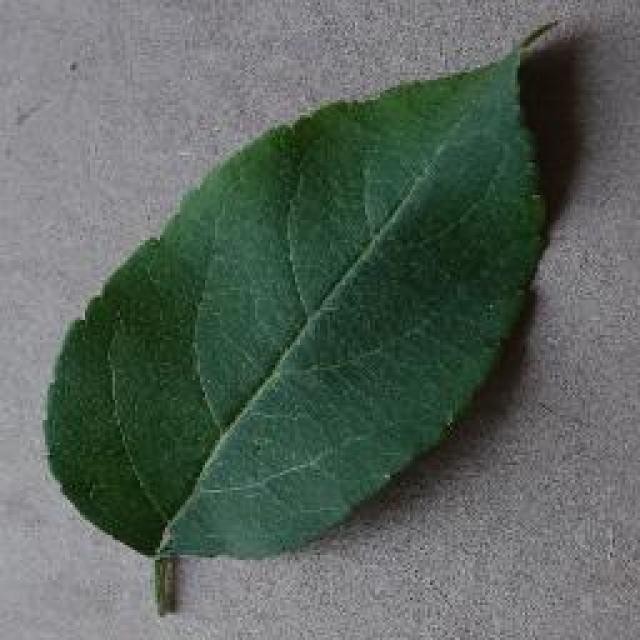apple healthy: (40, 15, 565, 613)
